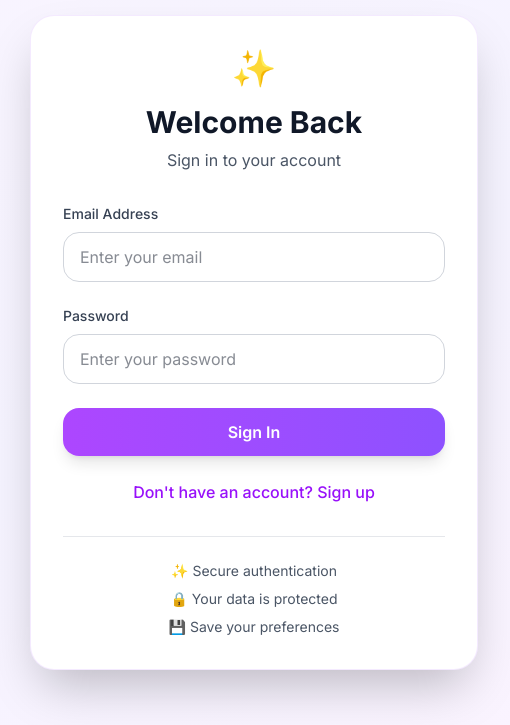
Test: LoginForm › shows loading state during form submission
This screenshot has width=510, height=725.
Type "test@example.com" into the field labelled "Email Address".
click(254, 256); type("test@example.com")  # box [63, 232, 445, 282]
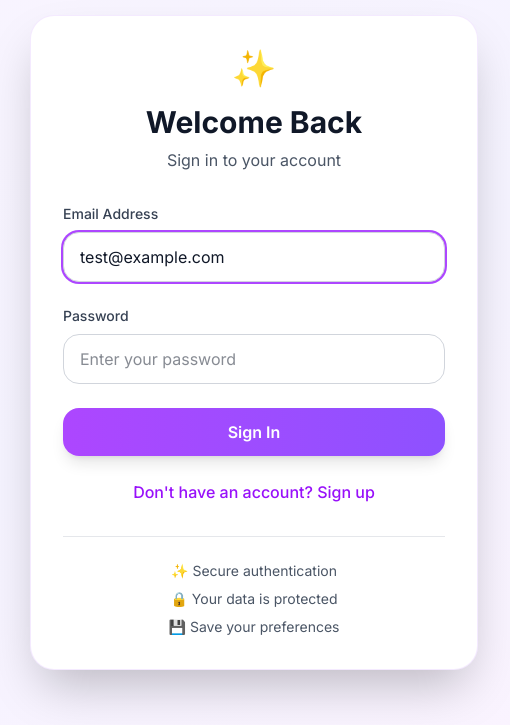
Type "password123" into the password field labelled "Password".
click(254, 358); type("password123")  # box [63, 334, 445, 384]
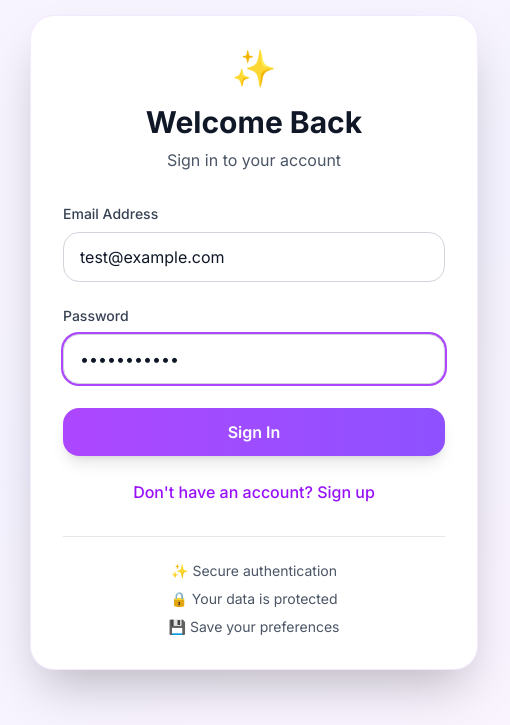
Click the button "Sign In".
click(254, 432)  # box [63, 408, 445, 456]
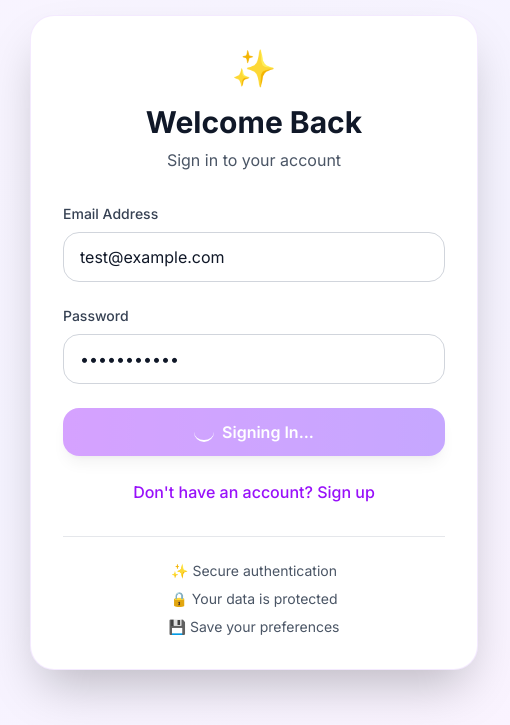
Result: the text "Signing In..." is shown at [194, 422, 314, 442]
Result: the button named "sign in" is disabled at [63, 408, 445, 456]
